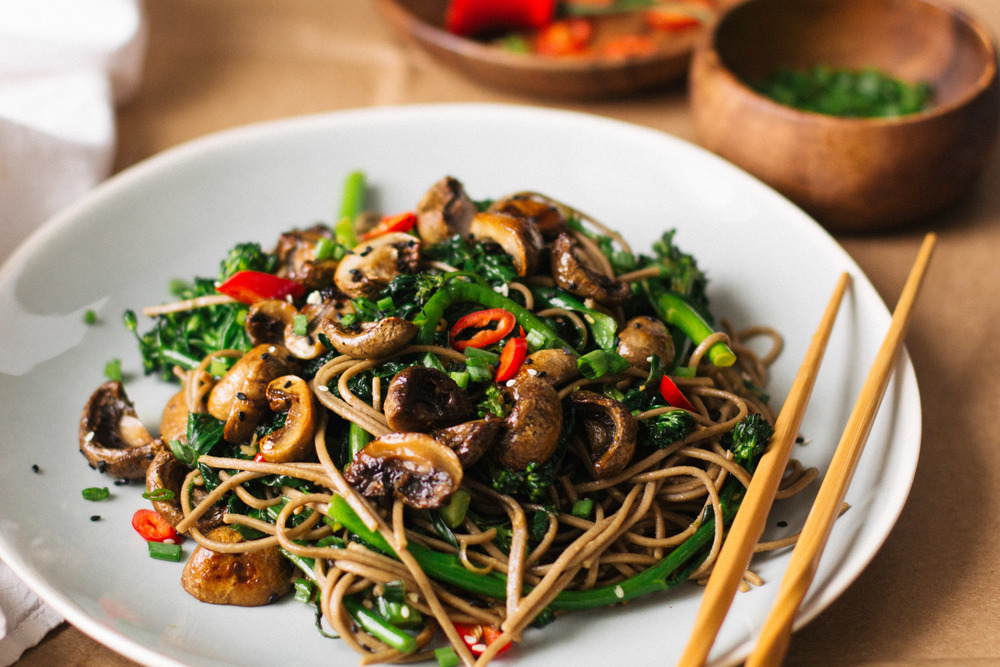Soba: (157, 171, 800, 645)
